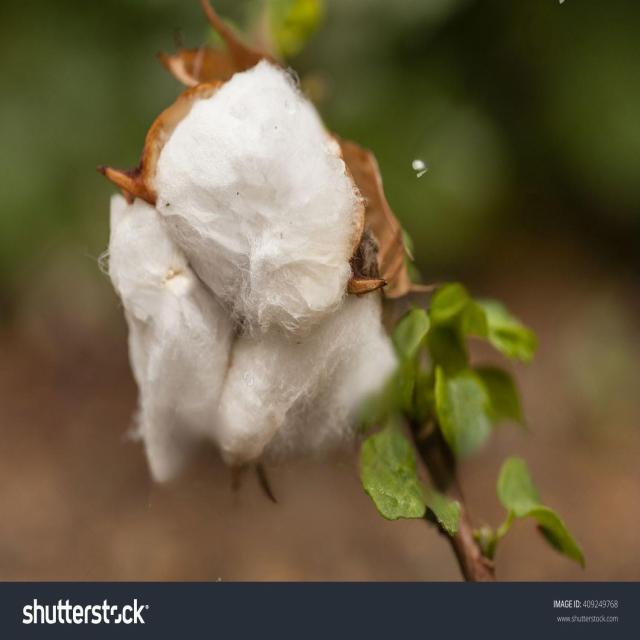Leaf: (84, 48, 411, 491)
